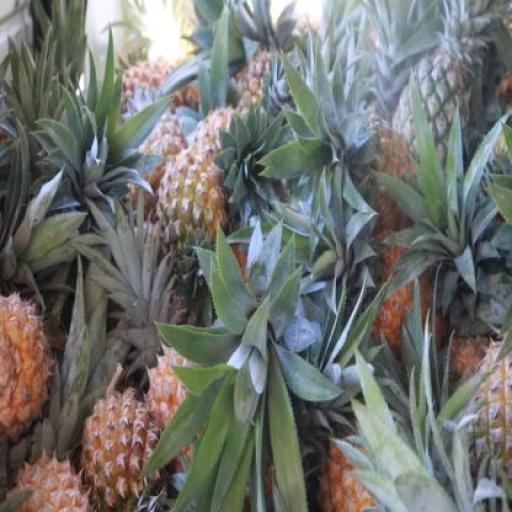------------------------------: (159, 142, 226, 276)
Pineapple - v8 v1: (85, 391, 157, 509), (0, 292, 53, 437)
